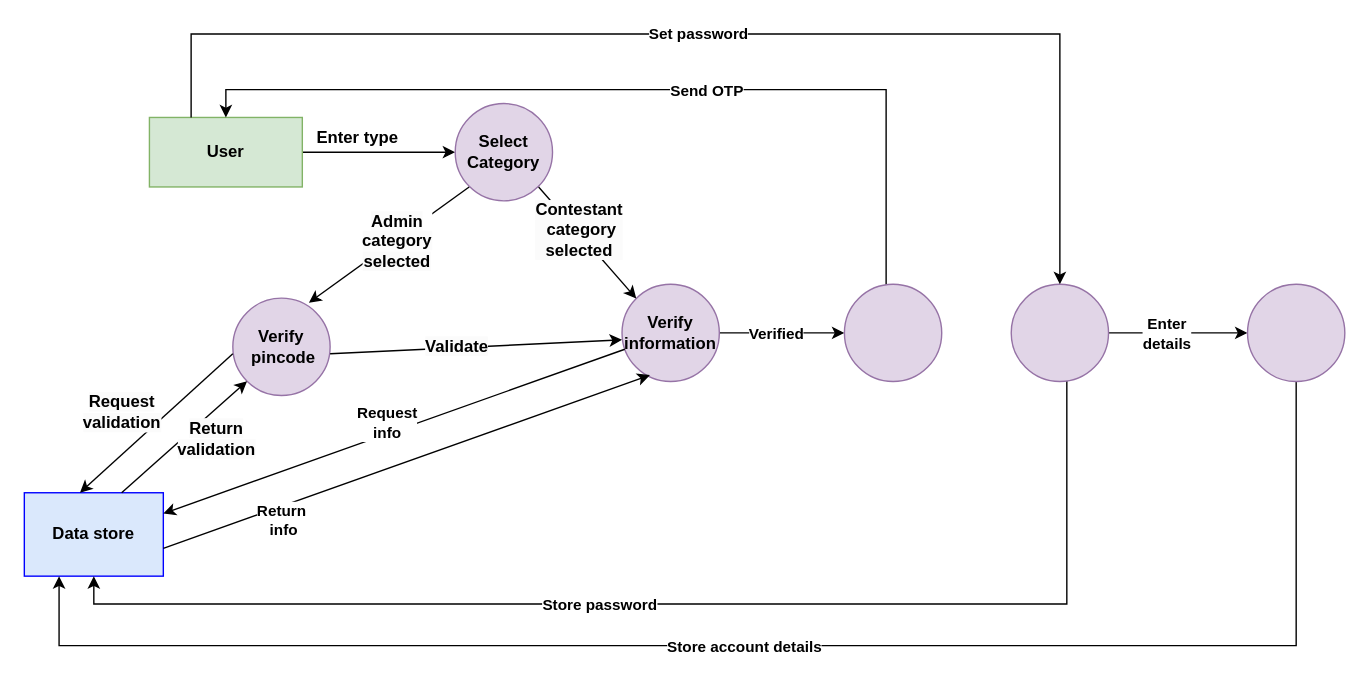
This 1369x681 diagram has some shape labels left out. The box of each missing label's shape, as (x1, y1, x2, y2) in pixels:
Create account: (1246, 283, 1345, 382)
Generate OTP: (843, 283, 942, 382)
Grant Access: (1010, 283, 1109, 382)
